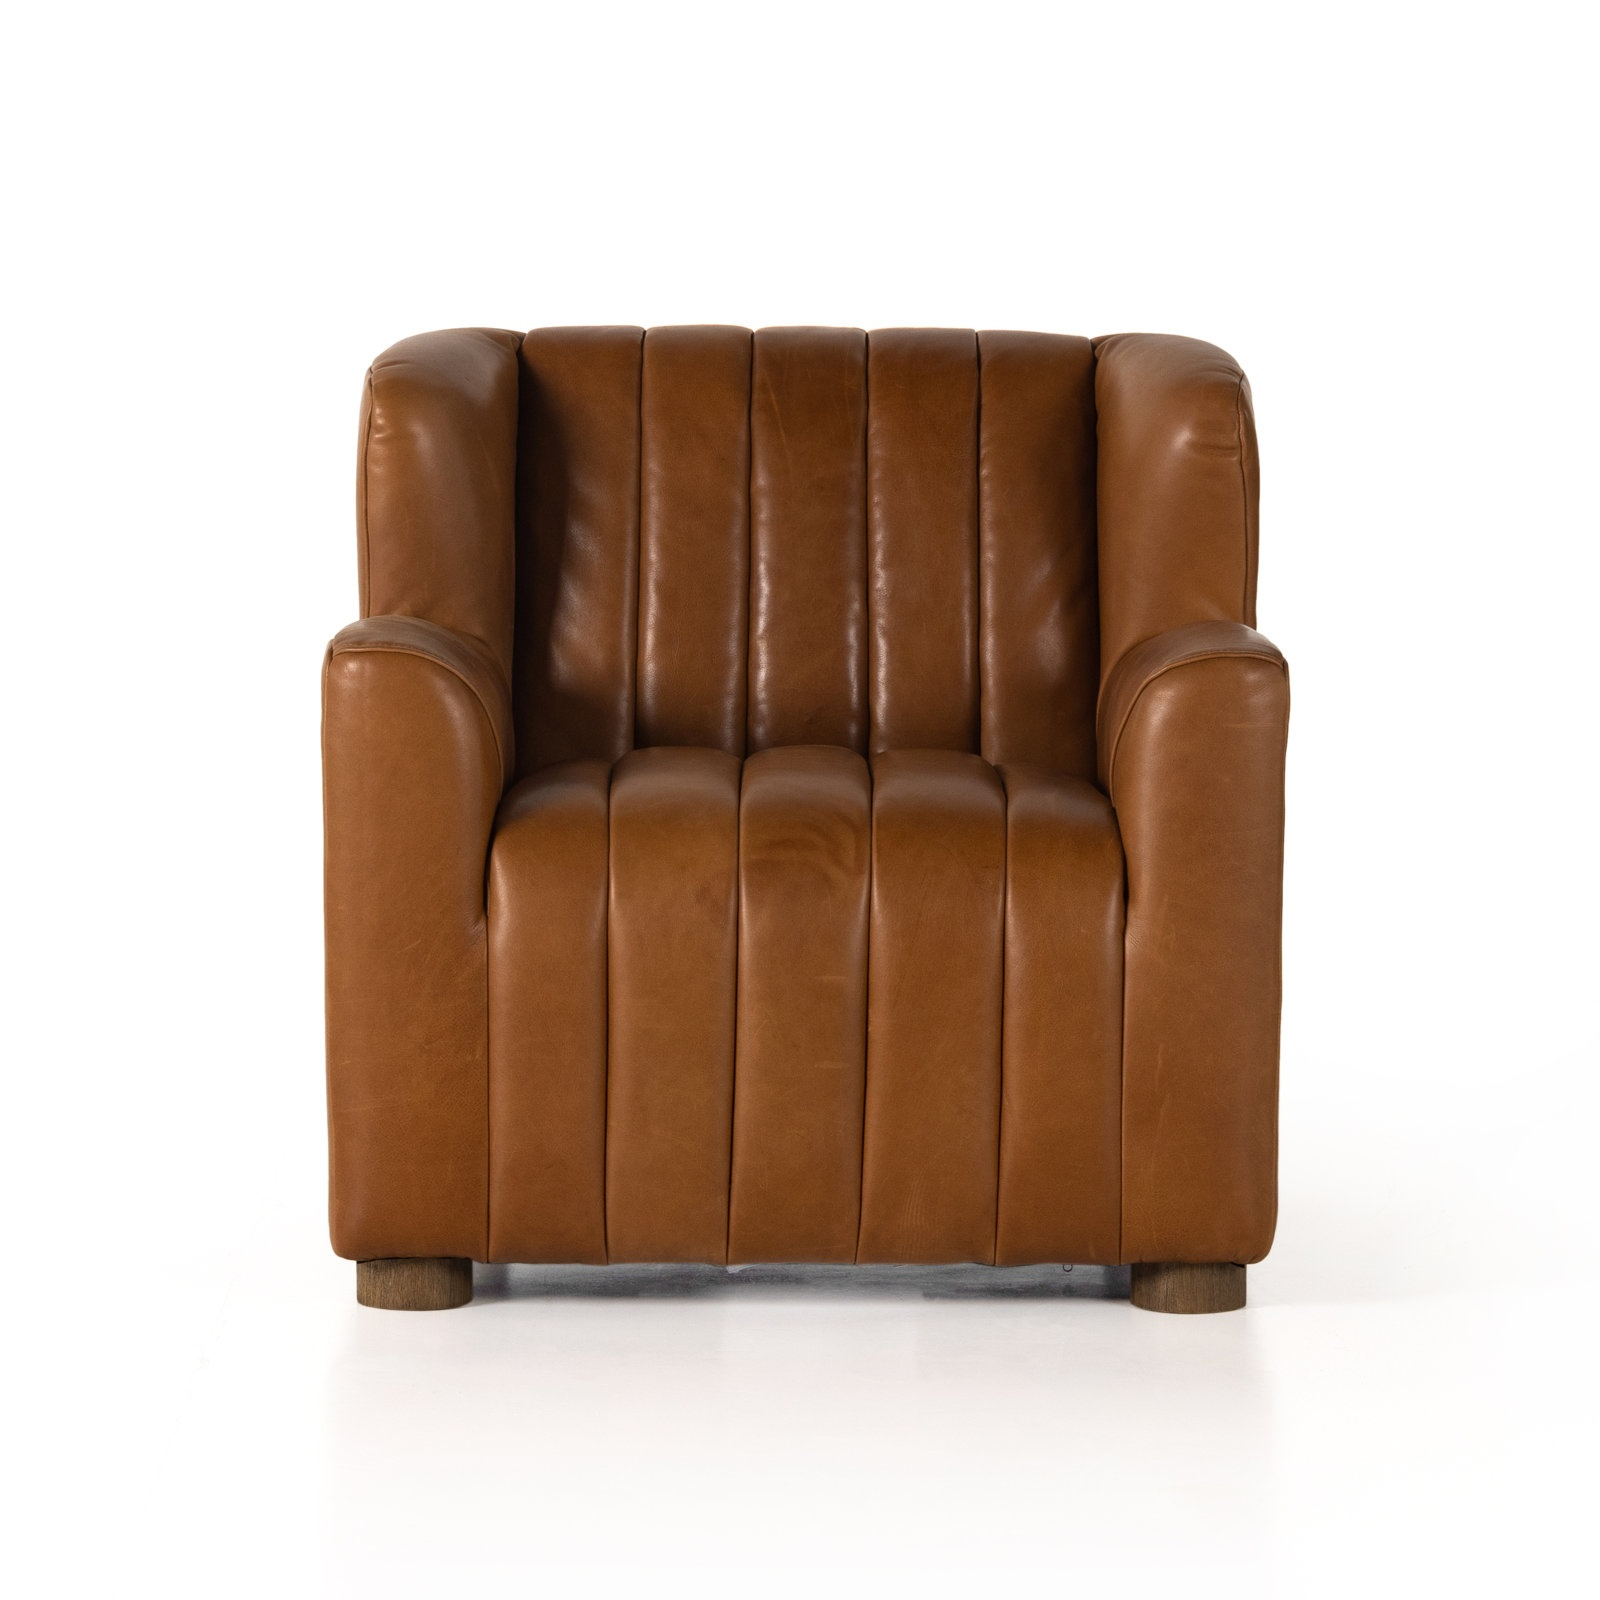obstacle: (322, 327, 1286, 1310)
